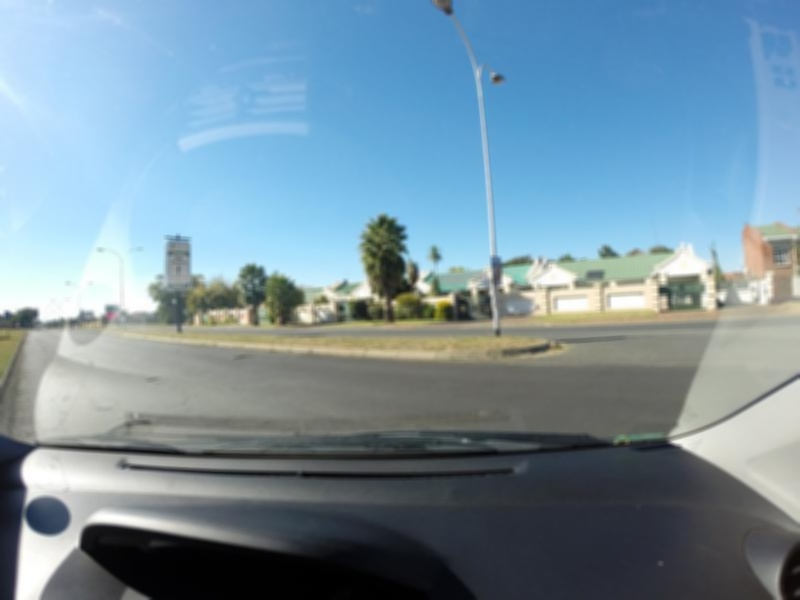pothole: (91, 402, 119, 411), (231, 352, 250, 359), (144, 378, 163, 382)
